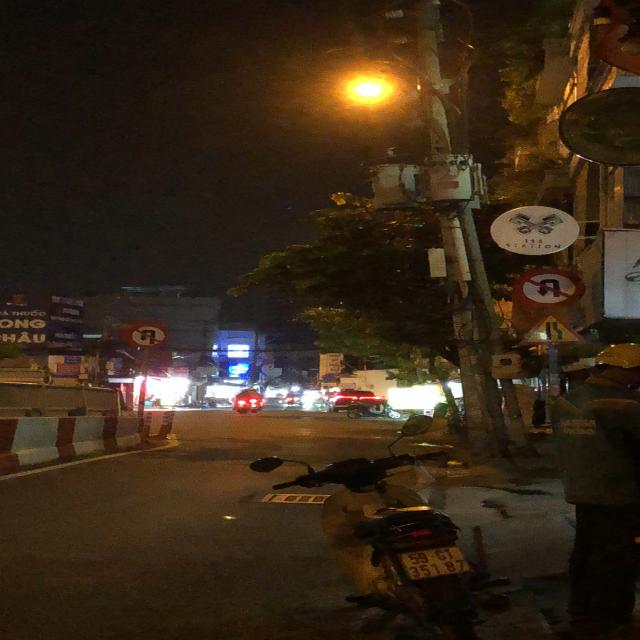Bien bao cam quay dau xe: (511, 266, 592, 309), (124, 319, 172, 349)
Bien bao duong bi thu hep: (512, 313, 588, 347)
